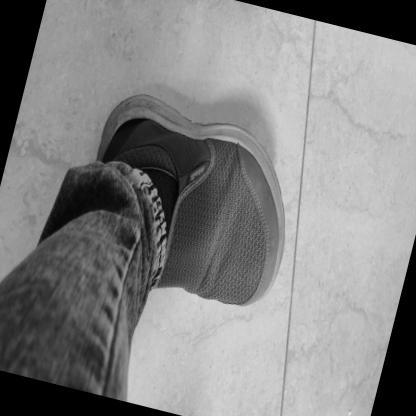ankle: (153, 157, 162, 170)
heel: (103, 136, 110, 149)
pinky: (270, 198, 279, 212)
right_foot: (69, 87, 312, 319)
toe: (244, 293, 253, 306)
